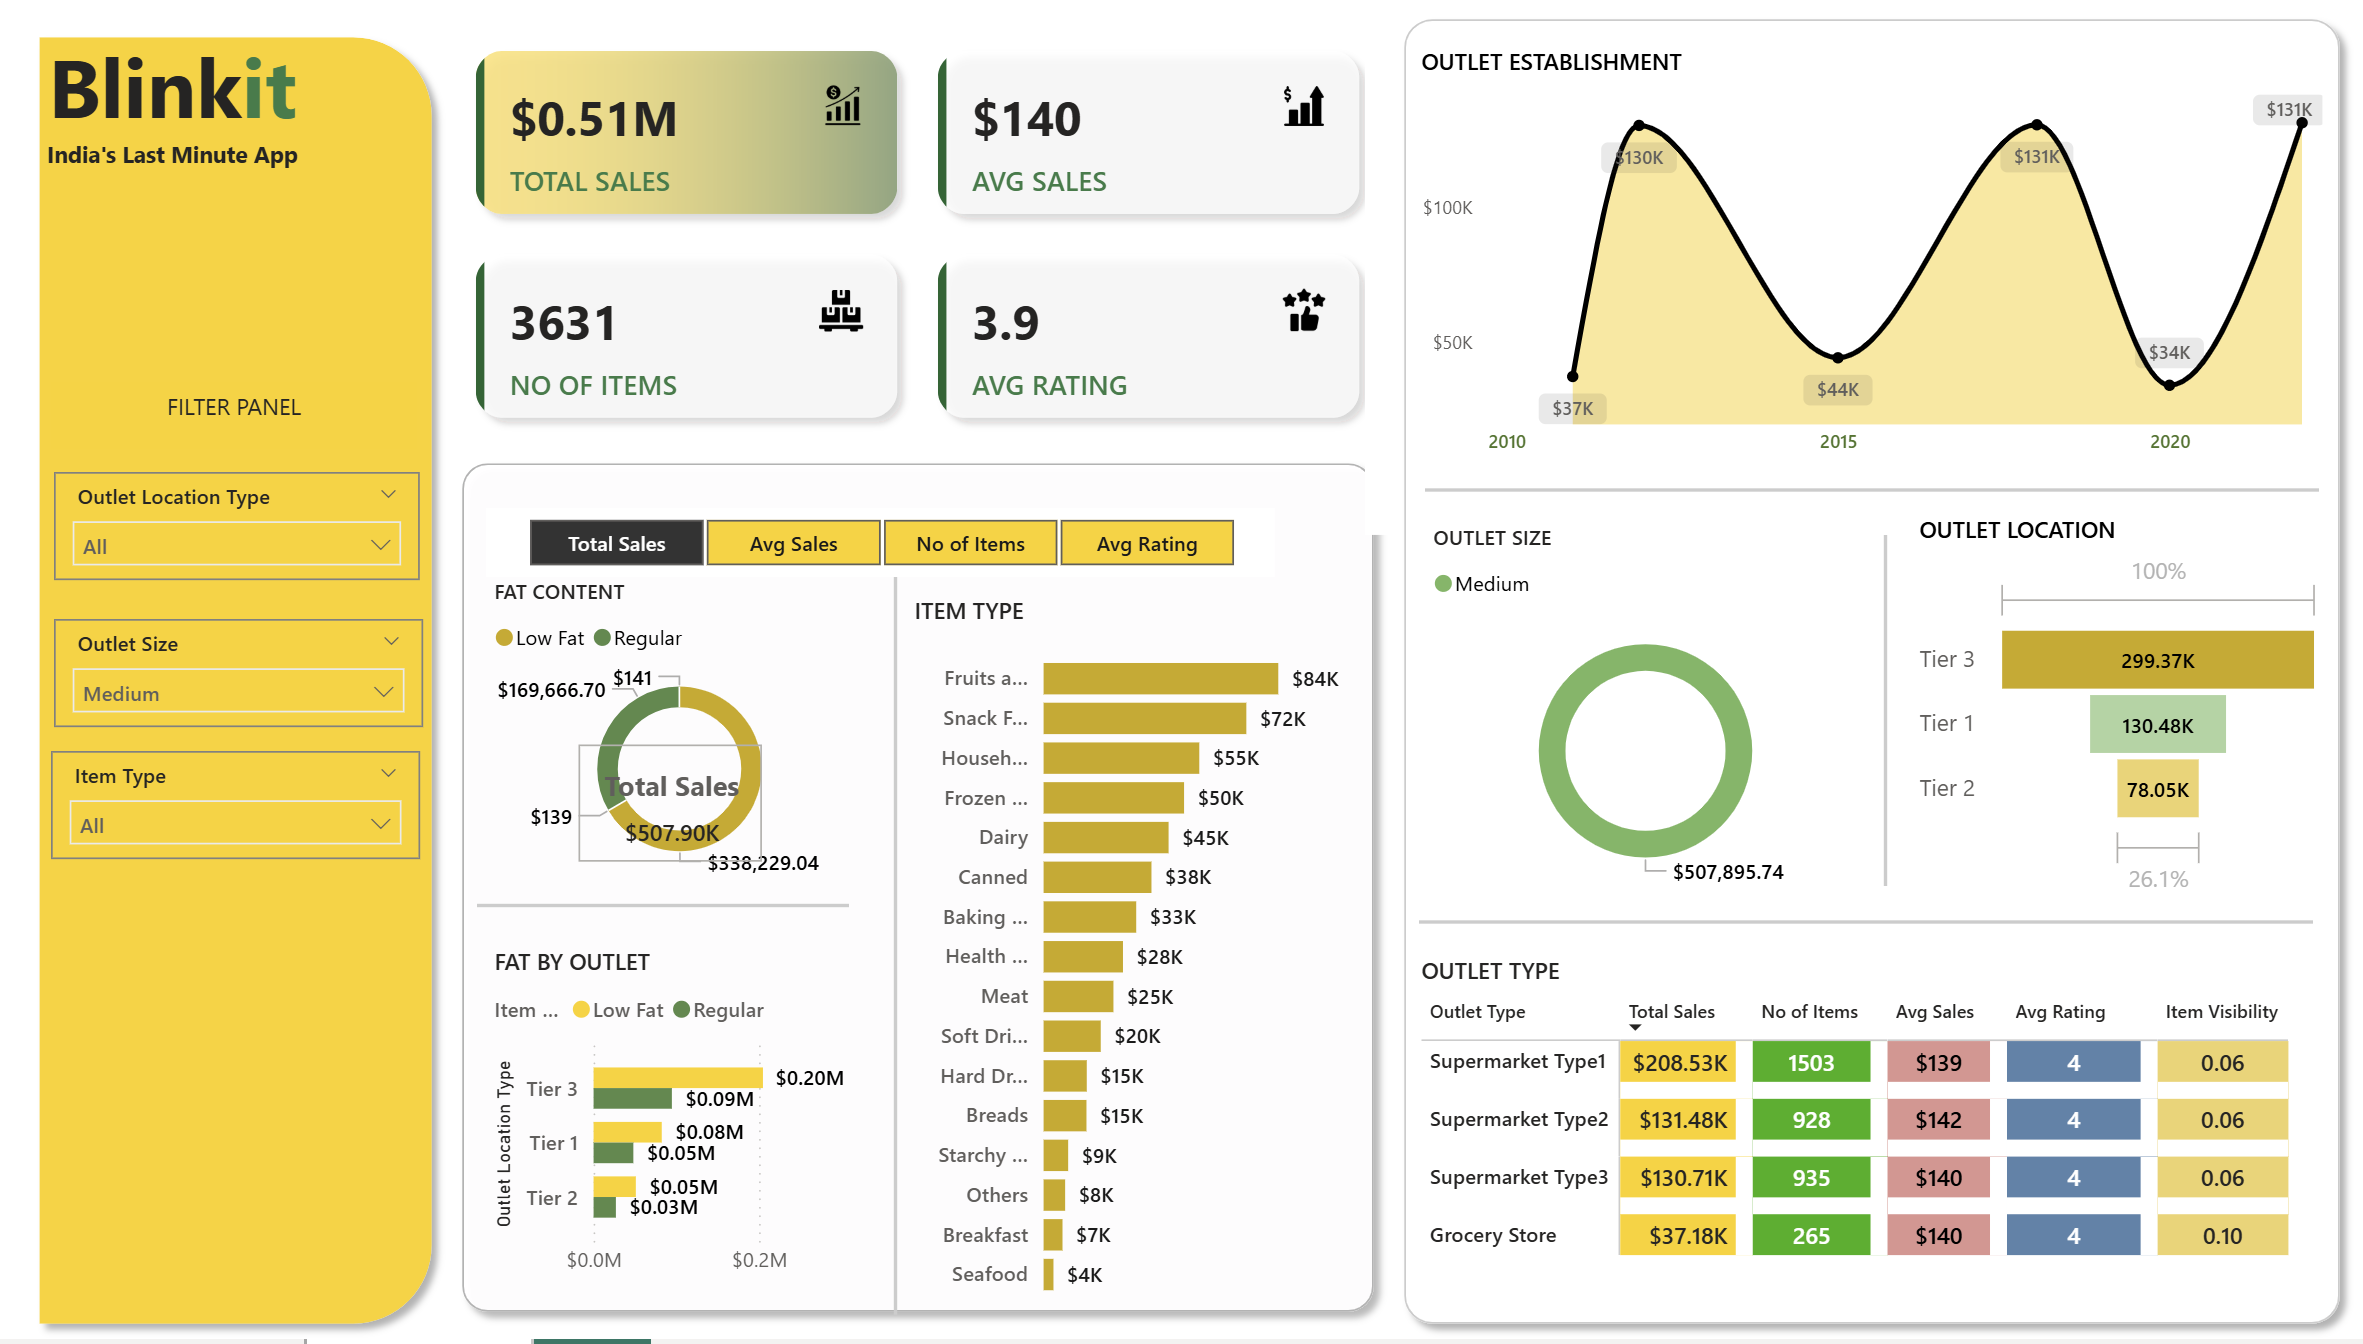

This screenshot's page, from the dashboard's own definition file:
{"tool":"powerbi","page":{"name":"Page 1","canvas":[1400,800],"ordinal":0},"visuals":[{"type":"shape","box":[14.1,24.7,249,775.3],"z":0},{"type":"textbox","box":[0,24.9,203,111.8],"z":1000},{"type":"cardVisual","fields":{"Data":["BlinkIT Grocery Data.Total Sales","BlinkIT Grocery Data.Avg Sales","BlinkIT Grocery Data.No of Items","BlinkIT Grocery Data.Avg Rating"]},"box":[263.1,24.7,554.5,250.8],"z":2000},{"type":"shape","box":[263.1,275.5,554.5,517.4],"z":3000},{"type":"donutChart","title":"FAT CONTENT ","fields":{"Y":["BlinkIT Grocery Data.No of Items","BlinkIT Grocery Data.Avg Sales"],"Category":["BlinkIT Grocery Data.Item Fat Content"]},"box":[286.1,351.4,227.8,181.9],"z":4000},{"type":"slicer","fields":{"Values":["Metrics.Metrics"]},"box":[286.1,310.8,464.5,40.6],"z":5000},{"type":"cardVisual","fields":{"Data":["BlinkIT Grocery Data.No of Items"]},"box":[335.5,445,118.3,79.5],"z":6000},{"type":"clusteredBarChart","title":"FAT BY OUTLET","fields":{"Y":["BlinkIT Grocery Data.No of Items"],"Category":["BlinkIT Grocery Data.Outlet Location Type"],"Series":["BlinkIT Grocery Data.Item Fat Content"]},"box":[286.1,568.7,233.1,203.1],"z":7000},{"type":"shape","box":[280.8,529.8,219,30],"z":8000},{"type":"shape","box":[513.9,351.4,26.5,434.4],"z":9000},{"type":"barChart","box":[803.5,0,568.7,326.7],"z":10000},{"type":"barChart","title":"ITEM TYPE","fields":{"Y":["BlinkIT Grocery Data.No of Items"],"Category":["BlinkIT Grocery Data.Item Type"]},"box":[533.3,362,270.2,423.8],"z":11000},{"type":"shape","box":[817.7,14.1,568.7,785.9],"z":12000},{"type":"lineChart","title":"OUTLET ESTABLISHMENT ","fields":{"Y":["BlinkIT Grocery Data.Total Sales"],"Category":["BlinkIT Grocery Data.Outlet Establishment Year"]},"box":[831.8,38.9,540.4,250.8],"z":13000},{"type":"shape","box":[838.9,289.6,526.3,21.2],"z":14000},{"type":"donutChart","title":"OUTLET SIZE","fields":{"Y":["BlinkIT Grocery Data.Total Sales"],"Category":["BlinkIT Grocery Data.Outlet Size"]},"box":[838.9,319.6,259.6,224.3],"z":15000},{"type":"shape","box":[1087.9,326.7,44.2,206.6],"z":16000},{"type":"funnel","title":"OUTLET LOCATION","fields":{"Y":["Sum(BlinkIT Grocery Data.Sales)"],"Category":["BlinkIT Grocery Data.Outlet Location Type"]},"box":[1124.9,314.3,247.2,229.6],"z":17000},{"type":"shape","box":[835.3,543.9,526.3,21.2],"z":18000},{"type":"pivotTable","title":"OUTLET TYPE","fields":{"Rows":["BlinkIT Grocery Data.Outlet Type"],"Values":["BlinkIT Grocery Data.Total Sales","BlinkIT Grocery Data.No of Items","BlinkIT Grocery Data.Avg Sales","BlinkIT Grocery Data.Avg Rating","Avg(BlinkIT Grocery Data.Item Visibility)"]},"box":[831.8,574,533.3,203.1],"z":19000},{"type":"slicer","fields":{"Values":["BlinkIT Grocery Data.Outlet Location Type"]},"box":[31.8,289.6,215.5,63.6],"z":20000},{"type":"slicer","fields":{"Values":["BlinkIT Grocery Data.Outlet Size"]},"box":[31.8,376.2,217.2,63.6],"z":21000},{"type":"slicer","fields":{"Values":["BlinkIT Grocery Data.Item Type"]},"box":[30,453.9,217.2,63.6],"z":22000},{"type":"textbox","box":[30,236.6,215.5,38.9],"z":23000}]}

Visuals, with their boxes in screenshot pixels (x1, y1, x2, y2), scaled from the page's 1400x800 canvas onto the 2363x1344 screenshot:
shape: 24, 41, 444, 1343
textbox: 0, 42, 343, 230
cardVisual - BlinkIT Grocery Data.Total Sales x BlinkIT Grocery Data.Avg Sales: 444, 41, 1380, 463
shape: 444, 463, 1380, 1332
"FAT CONTENT " donutChart: 483, 590, 867, 896
slicer - Metrics.Metrics: 483, 522, 1267, 590
cardVisual - BlinkIT Grocery Data.No of Items: 566, 748, 766, 881
"FAT BY OUTLET" clusteredBarChart: 483, 955, 876, 1297
shape: 474, 890, 844, 940
shape: 867, 590, 912, 1320
barChart: 1356, 0, 2316, 549
"ITEM TYPE" barChart: 900, 608, 1356, 1320
shape: 1380, 24, 2340, 1343
"OUTLET ESTABLISHMENT " lineChart: 1404, 65, 2316, 487
shape: 1416, 487, 2304, 522
"OUTLET SIZE" donutChart: 1416, 537, 1854, 914
shape: 1836, 549, 1911, 896
"OUTLET LOCATION" funnel: 1899, 528, 2316, 914
shape: 1410, 914, 2298, 949
"OUTLET TYPE" pivotTable: 1404, 964, 2304, 1306
slicer - BlinkIT Grocery Data.Outlet Location Type: 54, 487, 417, 593
slicer - BlinkIT Grocery Data.Outlet Size: 54, 632, 420, 739
slicer - BlinkIT Grocery Data.Item Type: 51, 763, 417, 869
textbox: 51, 397, 414, 463
